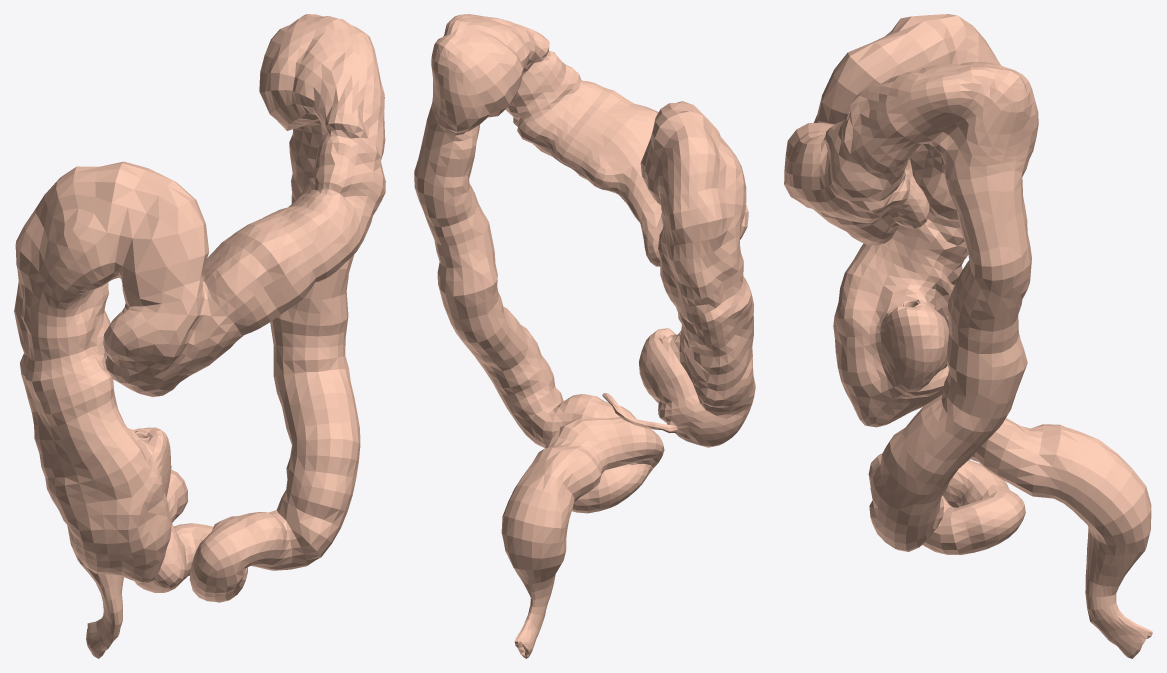
Rendered from SBU_M_Intestine_Large_0.8.glb.
3 renders of one model, left to right at view 1: azimuth 30°, elevation 25°; view 2: azimuth 150°, elevation 25°; view 3: azimuth 270°, elevation 25°, orthographic. The views are drawn at different scales.
Visible parts, largest first — view 1: VH_M_transverse_colon, VH_M_ascending_colon, VH_M_descending_colon, VH_M_caecum, VH_M_hepatic_flexure_of_colon, VH_M_sigmoid_colon, VH_M_splenic_flexure_of_colon, VH_M_rectum; view 2: VH_M_descending_colon, VH_M_ascending_colon, VH_M_transverse_colon, VH_M_rectum, VH_M_caecum, VH_M_sigmoid_colon, VH_M_splenic_flexure_of_colon, VH_M_hepatic_flexure_of_colon, VH_M_vermiform_appendix; view 3: VH_M_descending_colon, VH_M_caecum, VH_M_rectum, VH_M_transverse_colon, VH_M_splenic_flexure_of_colon, VH_M_sigmoid_colon, VH_M_ascending_colon, VH_M_hepatic_flexure_of_colon.
Boxes of the visible parts, <box> form: VH_M_transverse_colon: <box>103,30,385,396</box>; VH_M_ascending_colon: <box>14,161,124,469</box>; VH_M_descending_colon: <box>259,14,360,569</box>; VH_M_caecum: <box>41,424,171,582</box>; VH_M_hepatic_flexure_of_colon: <box>80,161,209,301</box>; VH_M_sigmoid_colon: <box>134,469,292,602</box>; VH_M_splenic_flexure_of_colon: <box>259,14,384,135</box>; VH_M_rectum: <box>67,525,123,658</box>; VH_M_descending_colon: <box>414,38,563,447</box>; VH_M_ascending_colon: <box>648,111,754,384</box>; VH_M_transverse_colon: <box>469,19,748,266</box>; VH_M_rectum: <box>501,446,600,658</box>; VH_M_caecum: <box>639,328,755,447</box>; VH_M_sigmoid_colon: <box>543,394,664,513</box>; VH_M_splenic_flexure_of_colon: <box>431,14,535,135</box>; VH_M_hepatic_flexure_of_colon: <box>640,101,720,190</box>; VH_M_vermiform_appendix: <box>602,393,677,433</box>; VH_M_descending_colon: <box>869,70,1038,551</box>; VH_M_caecum: <box>833,247,952,427</box>; VH_M_rectum: <box>1032,424,1152,658</box>; VH_M_transverse_colon: <box>784,62,973,245</box>; VH_M_splenic_flexure_of_colon: <box>867,61,1038,177</box>; VH_M_sigmoid_colon: <box>868,418,1043,555</box>; VH_M_ascending_colon: <box>861,14,1000,290</box>; VH_M_hepatic_flexure_of_colon: <box>817,16,949,123</box>.
Bounding box in the file's own units: 0.2591 × 0.4503 × 0.2248.
